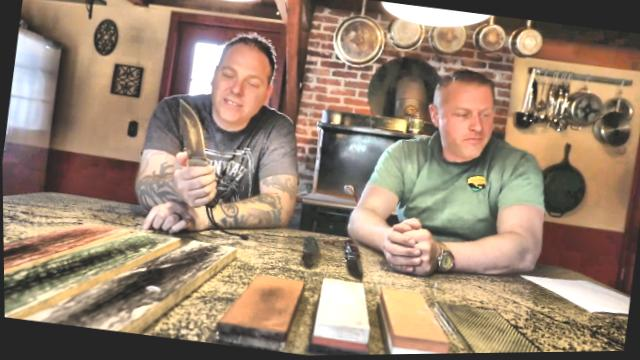knife: (161, 89, 233, 197)
